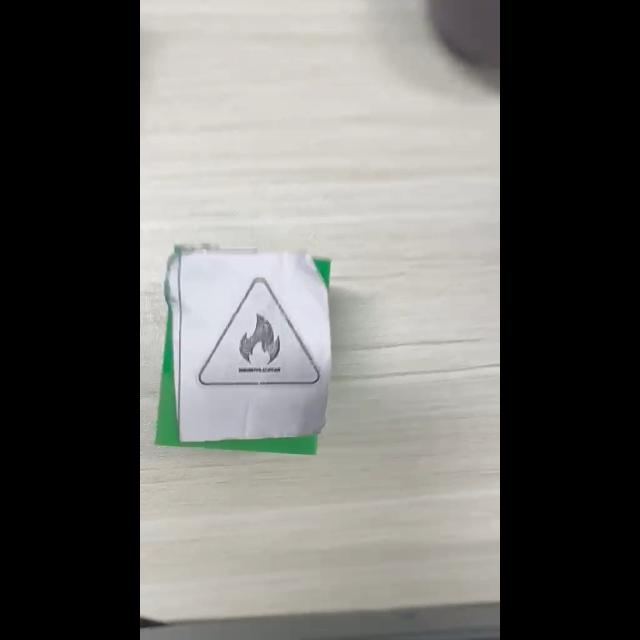Fire: (199, 278, 321, 386)
